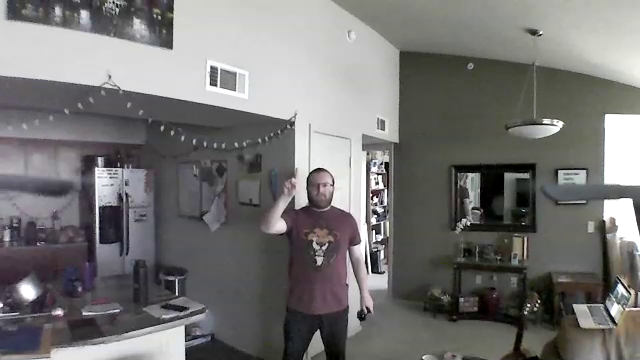up: (281, 160, 303, 199)
